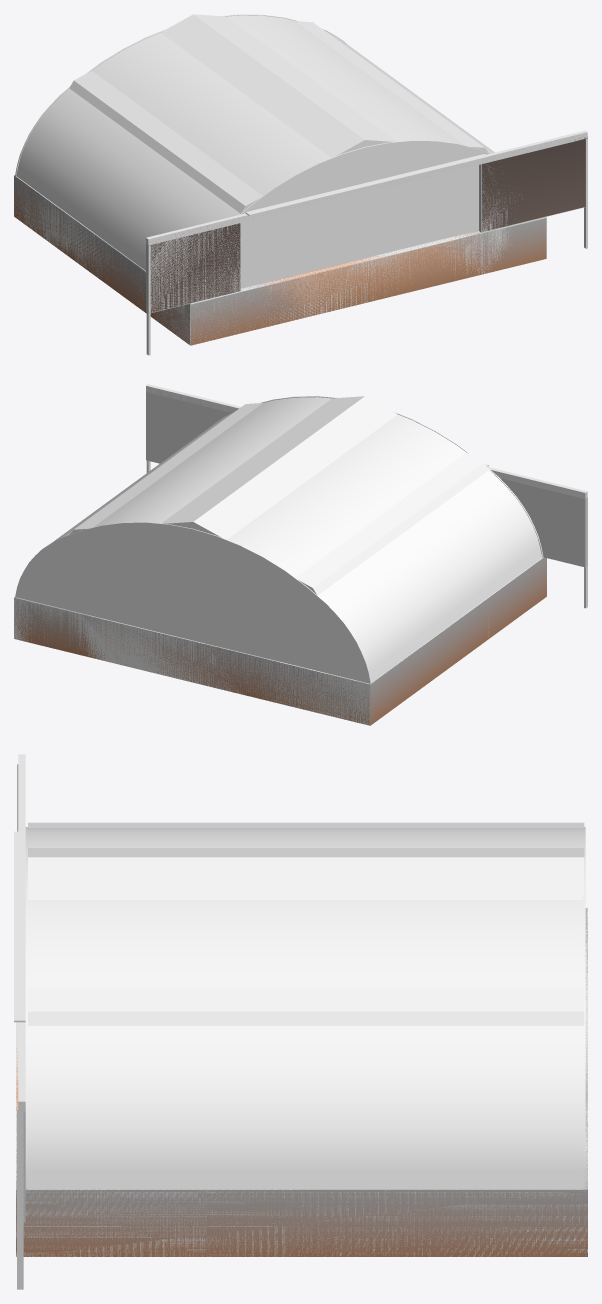
Rendered from airport_hangar.dae.
3 views of the same model, one above another, from view 1: azimuth 30°, elevation 25°; view 2: azimuth 150°, elevation 25°; view 3: azimuth 270°, elevation 25° (orthographic). The views are drawn at different scales.
Visible parts, largest first — view 1: airport_hangar_a400, airport_hangar_a12, airport_hangar_a2000, Colmesh-1, airport_hangar_a45, airport_hangar_a200; view 2: airport_hangar_a400, Colmesh-1, airport_hangar_a12, airport_hangar_a2000, airport_hangar_a200; view 3: airport_hangar_a400, airport_hangar_a12, airport_hangar_a2000, Colmesh-1, airport_hangar_a200.
Boxes of the visible parts, left/top/right/bottom form: airport_hangar_a400: left=14, top=14, right=587, bottom=355; airport_hangar_a12: left=19, top=14, right=488, bottom=288; airport_hangar_a2000: left=14, top=15, right=587, bottom=355; Colmesh-1: left=14, top=133, right=586, bottom=345; airport_hangar_a45: left=148, top=136, right=587, bottom=312; airport_hangar_a200: left=14, top=132, right=587, bottom=310; airport_hangar_a400: left=14, top=384, right=587, bottom=725; Colmesh-1: left=14, top=386, right=587, bottom=725; airport_hangar_a12: left=69, top=396, right=541, bottom=679; airport_hangar_a2000: left=14, top=386, right=587, bottom=724; airport_hangar_a200: left=19, top=388, right=587, bottom=724; airport_hangar_a400: left=14, top=754, right=587, bottom=1289; airport_hangar_a12: left=28, top=822, right=584, bottom=1189; airport_hangar_a2000: left=14, top=764, right=586, bottom=1289; Colmesh-1: left=16, top=908, right=587, bottom=1256; airport_hangar_a200: left=17, top=764, right=587, bottom=1289.
Size of the model in its own units: 22.2 by 15.5 by 7.71.
